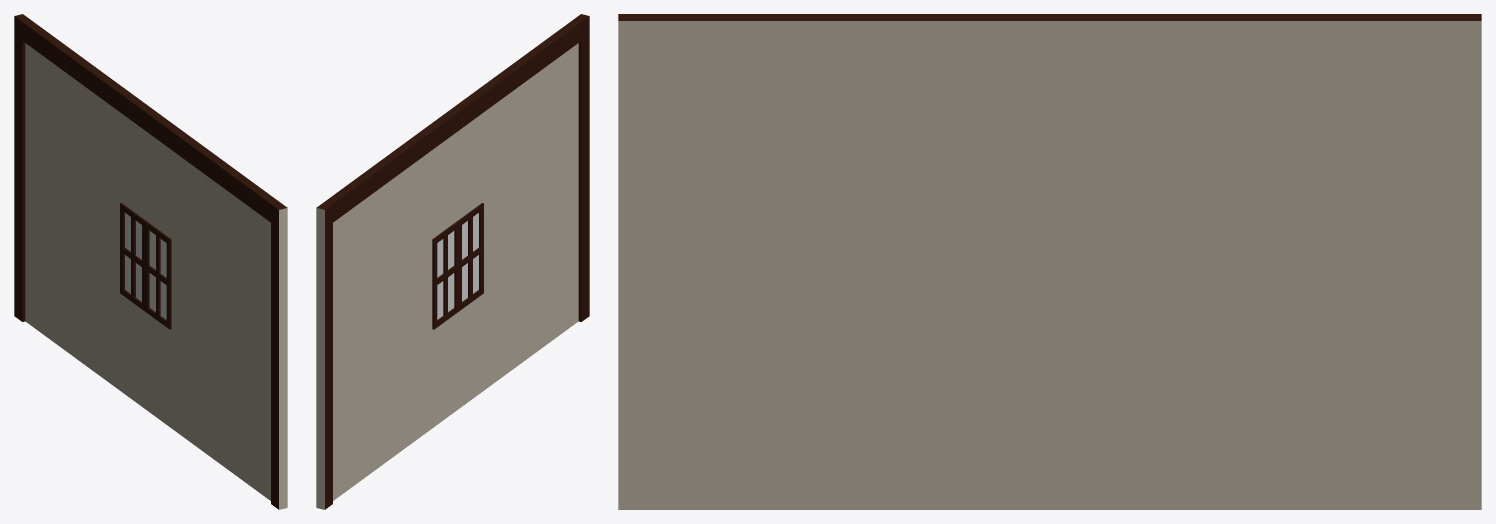
The model's file is BackWall.fbx.
3 renders of one model, left to right at view 1: azimuth 30°, elevation 25°; view 2: azimuth 150°, elevation 25°; view 3: azimuth 270°, elevation 25°, orthographic. The views are drawn at different scales.
Visible parts, largest first — view 1: BackWall; view 2: BackWall; view 3: BackWall.
Part boxes in pixels (box(x1,y1,x2,y2)): BackWall: box(14, 14, 287, 509); BackWall: box(316, 14, 589, 509); BackWall: box(618, 14, 1481, 509).
Size of the model in its own units: 180 by 5000 by 8000.
